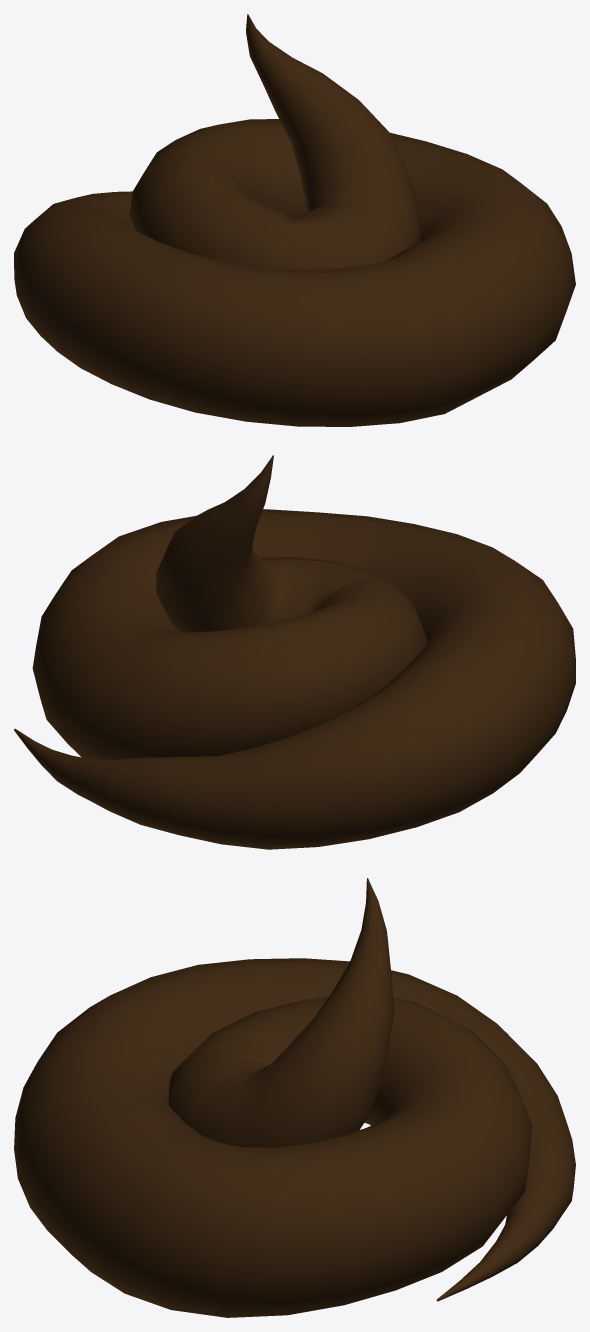
The model's file is poop.fbx.
3 renders of one model, top to bottom at view 1: azimuth 30°, elevation 25°; view 2: azimuth 150°, elevation 25°; view 3: azimuth 270°, elevation 25°, orthographic. The views are drawn at different scales.
Parts seen in each view (by area): view 1: poop; view 2: poop; view 3: poop.
Boxes of the visible parts, <box> form: poop: <box>14,14,575,426</box>; poop: <box>14,455,575,849</box>; poop: <box>14,878,575,1317</box>.
Size of the model in its own units: 115 by 74.25 by 111.
